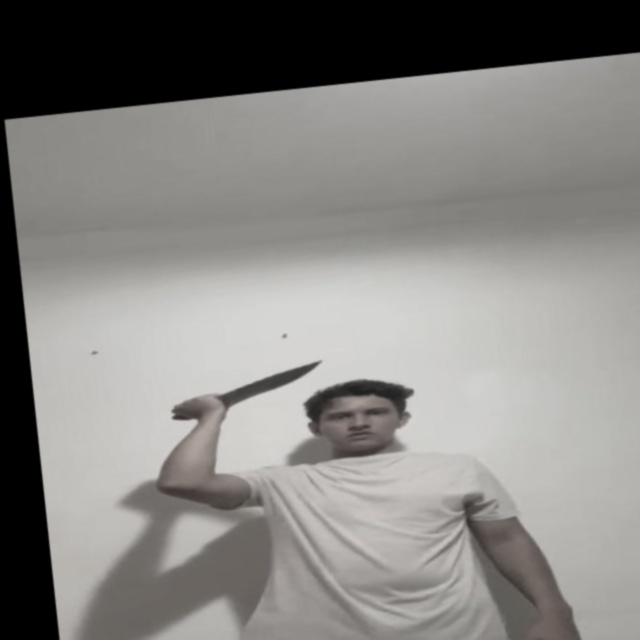Sharp-Object: (226, 360, 322, 402)
